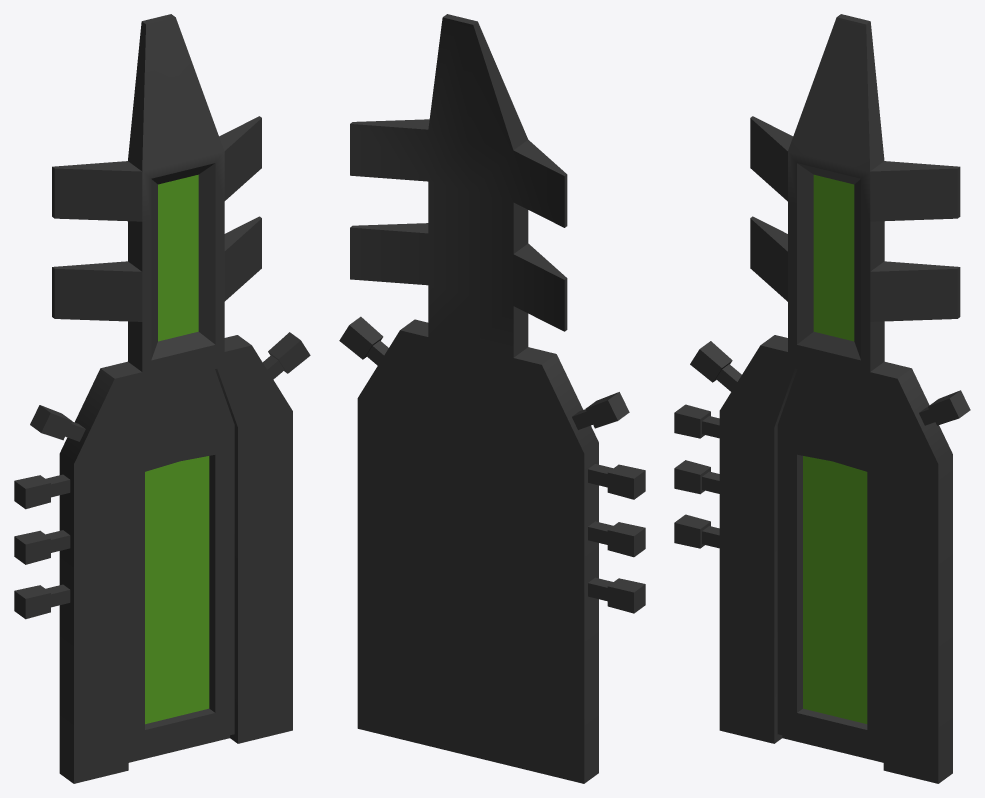
The model's file is FireRateFBX.fbx.
The picture shows the model from 3 angles, left to right: view 1: azimuth 30°, elevation 25°; view 2: azimuth 150°, elevation 25°; view 3: azimuth 330°, elevation 25°; orthographic projection. The views are drawn at different scales.
Parts seen in each view (by area): view 1: polySurface101; view 2: polySurface101; view 3: polySurface101.
Part boxes in pixels (<box>): polySurface101: <box>14,14,310,783</box>; polySurface101: <box>339,14,645,783</box>; polySurface101: <box>674,14,970,783</box>.
Size of the model in its own units: 32.19 by 77.68 by 5.38.
